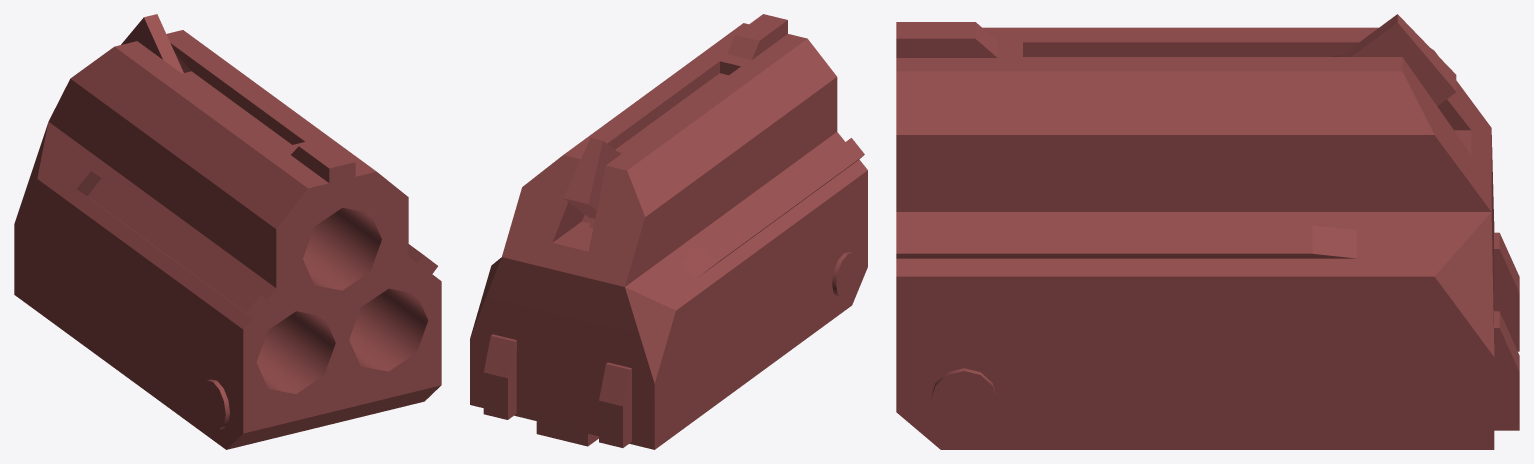
Rendered from WM0_Cannon_x3_LVL0.FBX.
The picture shows the model from 3 angles, left to right: view 1: azimuth 30°, elevation 25°; view 2: azimuth 150°, elevation 25°; view 3: azimuth 270°, elevation 25°; orthographic projection. The views are drawn at different scales.
Parts seen in each view (by area): view 1: WM0_Cannon_x3_LVL0; view 2: WM0_Cannon_x3_LVL0; view 3: WM0_Cannon_x3_LVL0.
Part boxes in pixels (x1,y1,x2,y2): WM0_Cannon_x3_LVL0: [14, 14, 441, 449]; WM0_Cannon_x3_LVL0: [470, 14, 867, 449]; WM0_Cannon_x3_LVL0: [896, 14, 1519, 449].
Size of the model in its own units: 11.75 by 16.05 by 23.45.
